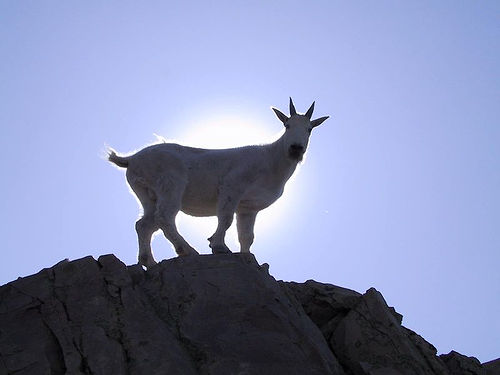goat: (102, 97, 331, 267)
